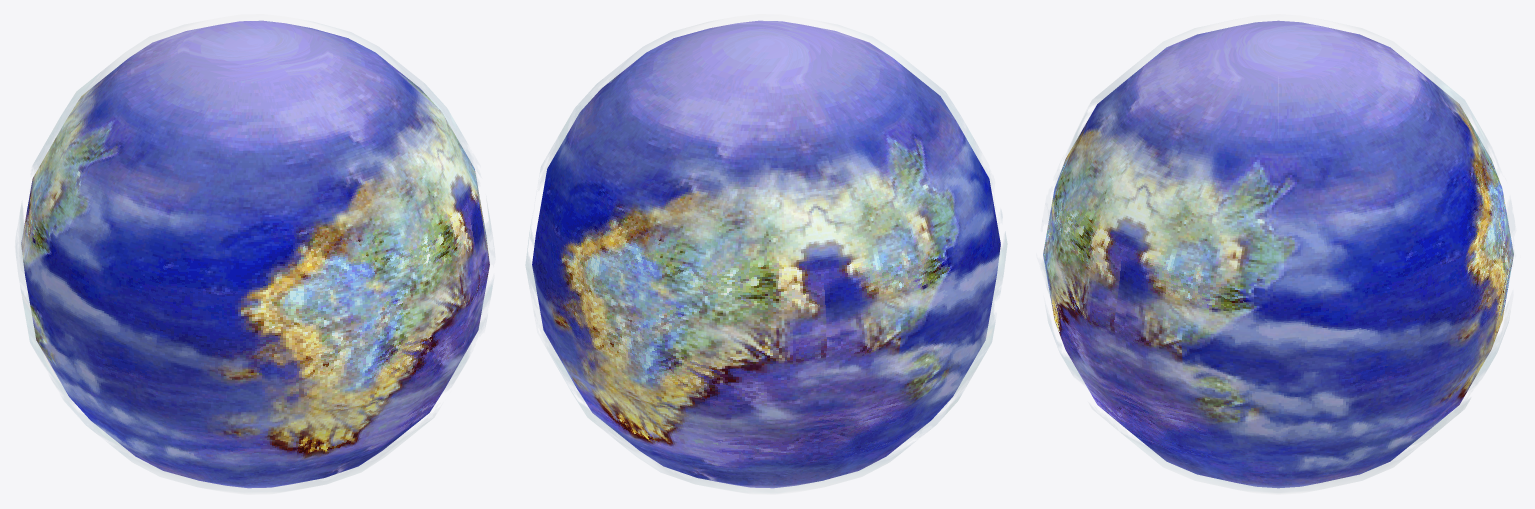
File: pblueplanet_cmp.gltf
The picture shows the model from 3 angles, left to right: view 1: azimuth 30°, elevation 25°; view 2: azimuth 150°, elevation 25°; view 3: azimuth 270°, elevation 25°; orthographic projection.
Parts seen in each view (by area): view 1: Root, clouds; view 2: Root, clouds; view 3: Root, clouds.
Boxes of the visible parts, x1,y1,x2,y2 form: Root: (21, 20, 489, 488); clouds: (16, 14, 492, 494); Root: (532, 20, 1000, 488); clouds: (525, 14, 1007, 494); Root: (1043, 20, 1513, 488); clouds: (1042, 14, 1509, 494).
Size of the model in its own units: 44.28 by 44.28 by 44.28.
Materials: 2 (2 with a texture image).
